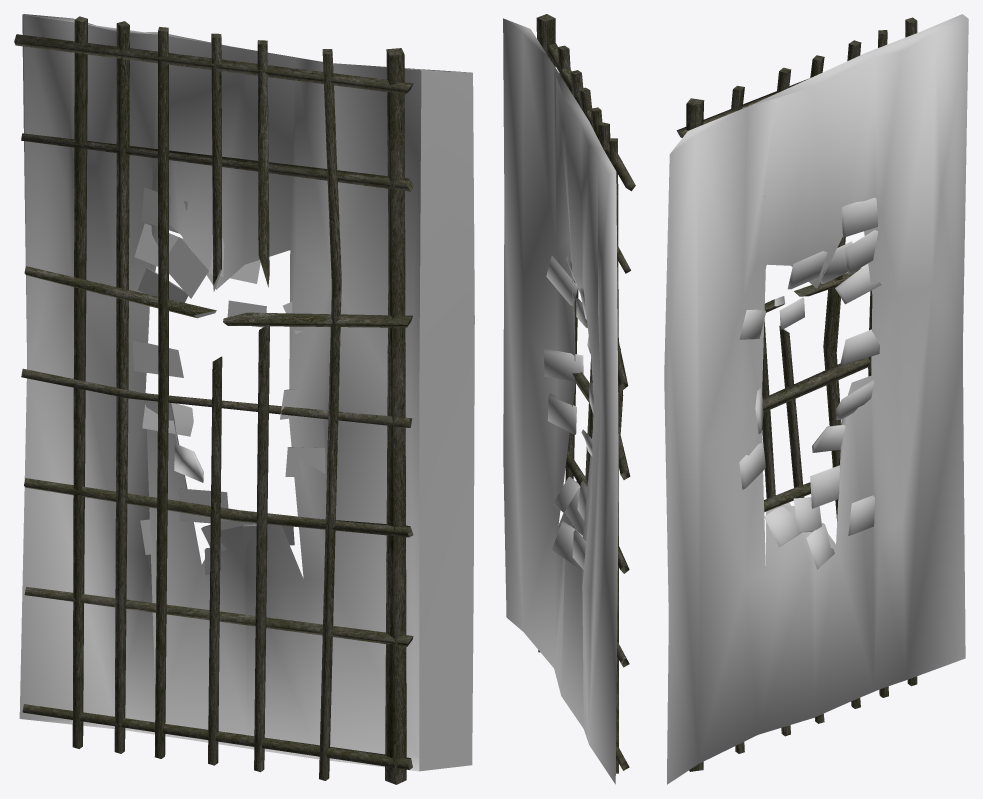
File: TI_Damaged_Roof_01.fbx
3 views of the same model, side by side, from view 1: azimuth 30°, elevation 25°; view 2: azimuth 150°, elevation 25°; view 3: azimuth 270°, elevation 25° (orthographic). The views are drawn at different scales.
Visible parts, largest first — view 1: Ti_M_Roof_04, TI_D_Roof_Frame_02; view 2: Ti_M_Roof_04, TI_D_Roof_Frame_02; view 3: Ti_M_Roof_04, TI_D_Roof_Frame_02.
Boxes of the visible parts, <box> form: Ti_M_Roof_04: <box>19,14,474,771</box>; TI_D_Roof_Frame_02: <box>14,16,414,784</box>; Ti_M_Roof_04: <box>503,18,618,784</box>; TI_D_Roof_Frame_02: <box>536,14,635,773</box>; Ti_M_Roof_04: <box>664,14,968,784</box>; TI_D_Roof_Frame_02: <box>676,17,917,771</box>.
Size of the model in its own units: 4.32 by 9.9 by 4.07.
